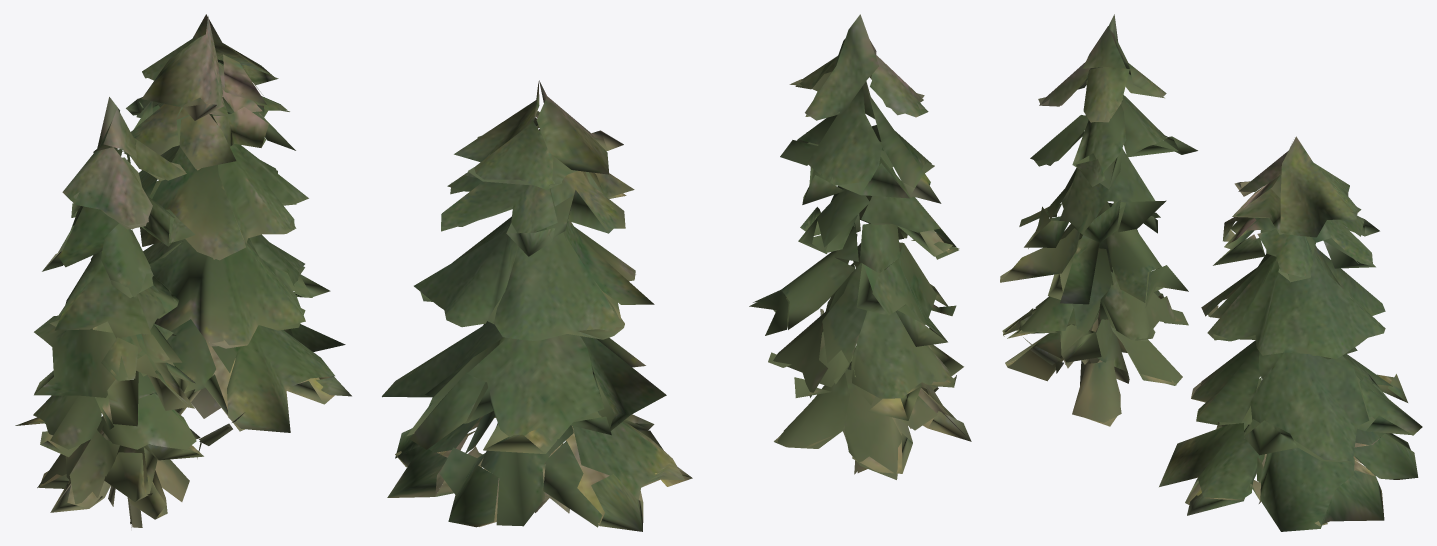
File: conifer_pair_01_lod2.glb
3 views of the same model, side by side, from view 1: azimuth 30°, elevation 25°; view 2: azimuth 150°, elevation 25°; view 3: azimuth 270°, elevation 25° (orthographic). The views are drawn at different scales.
Parts seen in each view (by area): view 1: candidate_008_lod2; view 2: candidate_008_lod2; view 3: candidate_008_lod2.
Part boxes in pixels (left/top/right/bottom): candidate_008_lod2: left=15, top=14, right=351, bottom=527; candidate_008_lod2: left=382, top=14, right=971, bottom=531; candidate_008_lod2: left=1000, top=14, right=1422, bottom=531.
Size of the model in its own units: 0.1718 by 0.1722 by 0.1653.
Materials: 1 (1 with a texture image).
